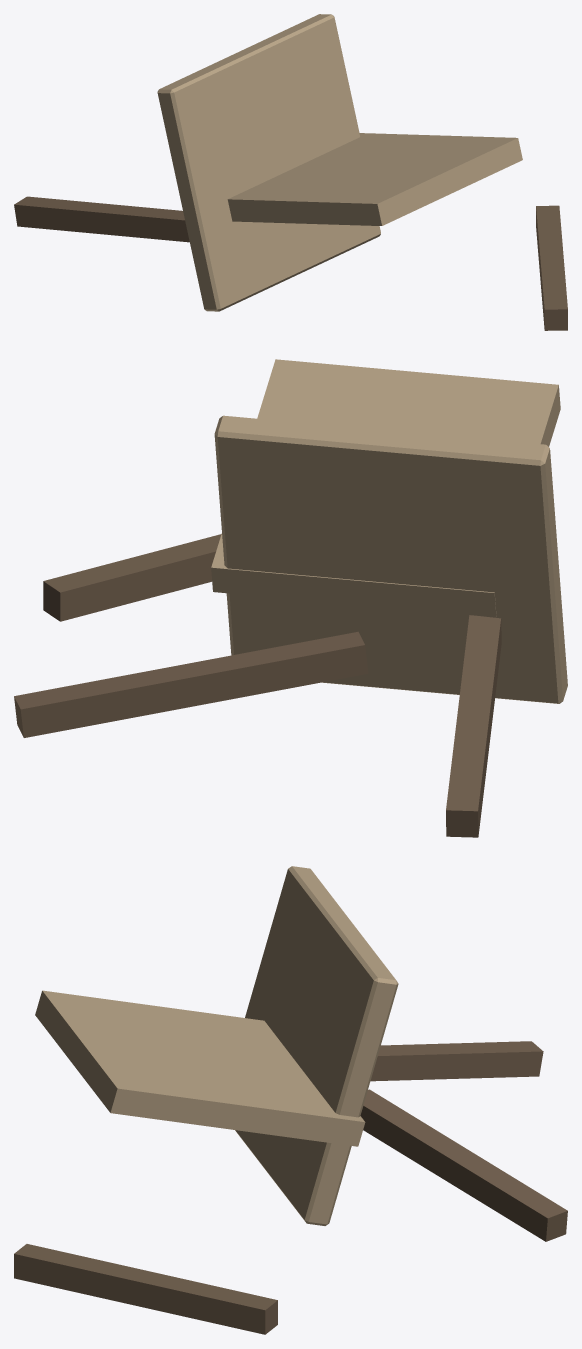
The model's file is Dress_ChairBroken.fbx.
The picture shows the model from 3 angles, top to bottom: view 1: azimuth 30°, elevation 25°; view 2: azimuth 150°, elevation 25°; view 3: azimuth 270°, elevation 25°; orthographic projection. The views are drawn at different scales.
Parts seen in each view (by area): view 1: Dress_ChairBroken; view 2: Dress_ChairBroken; view 3: Dress_ChairBroken.
Boxes of the visible parts, x1,y1,x2,y2 form: Dress_ChairBroken: (14, 14, 567, 330); Dress_ChairBroken: (14, 359, 567, 837); Dress_ChairBroken: (14, 866, 567, 1334).
Bounding box in the file's own units: 85.07 × 41.64 × 81.75.
